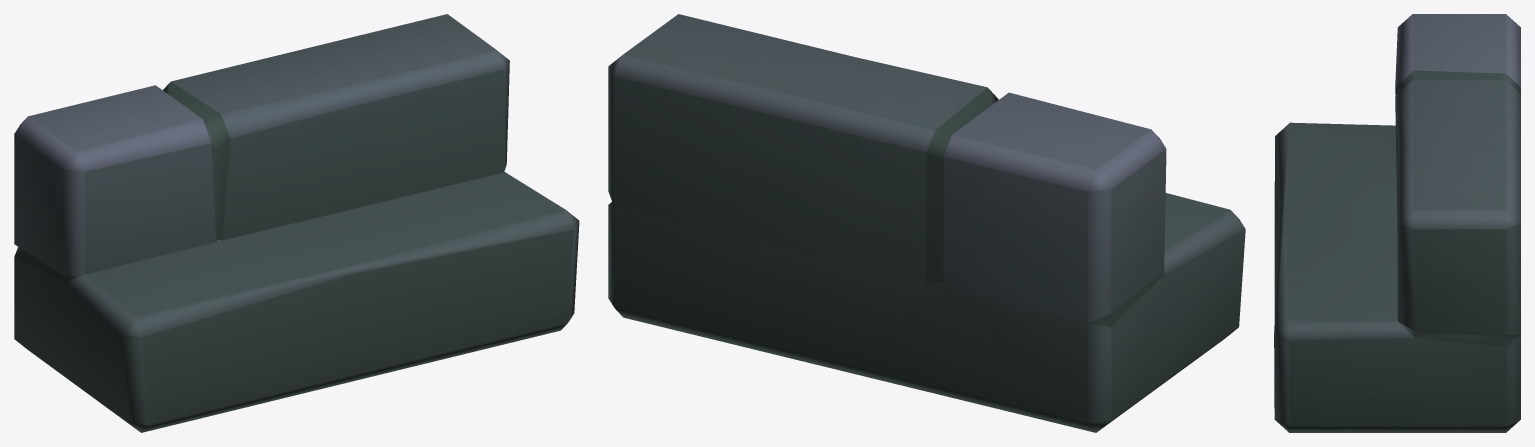
File: undead_stairs_half_2_shade_3.fbx
3 views of the same model, side by side, from view 1: azimuth 30°, elevation 25°; view 2: azimuth 150°, elevation 25°; view 3: azimuth 270°, elevation 25° (orthographic). The views are drawn at different scales.
Visible parts, largest first — view 1: undead_stairs_half_2_shade_3; view 2: undead_stairs_half_2_shade_3; view 3: undead_stairs_half_2_shade_3.
Part boxes in pixels (<box>): undead_stairs_half_2_shade_3: <box>14,14,579,432</box>; undead_stairs_half_2_shade_3: <box>608,14,1245,432</box>; undead_stairs_half_2_shade_3: <box>1274,14,1520,432</box>.
Size of the model in its own units: 1.02 by 0.5051 by 0.501.
